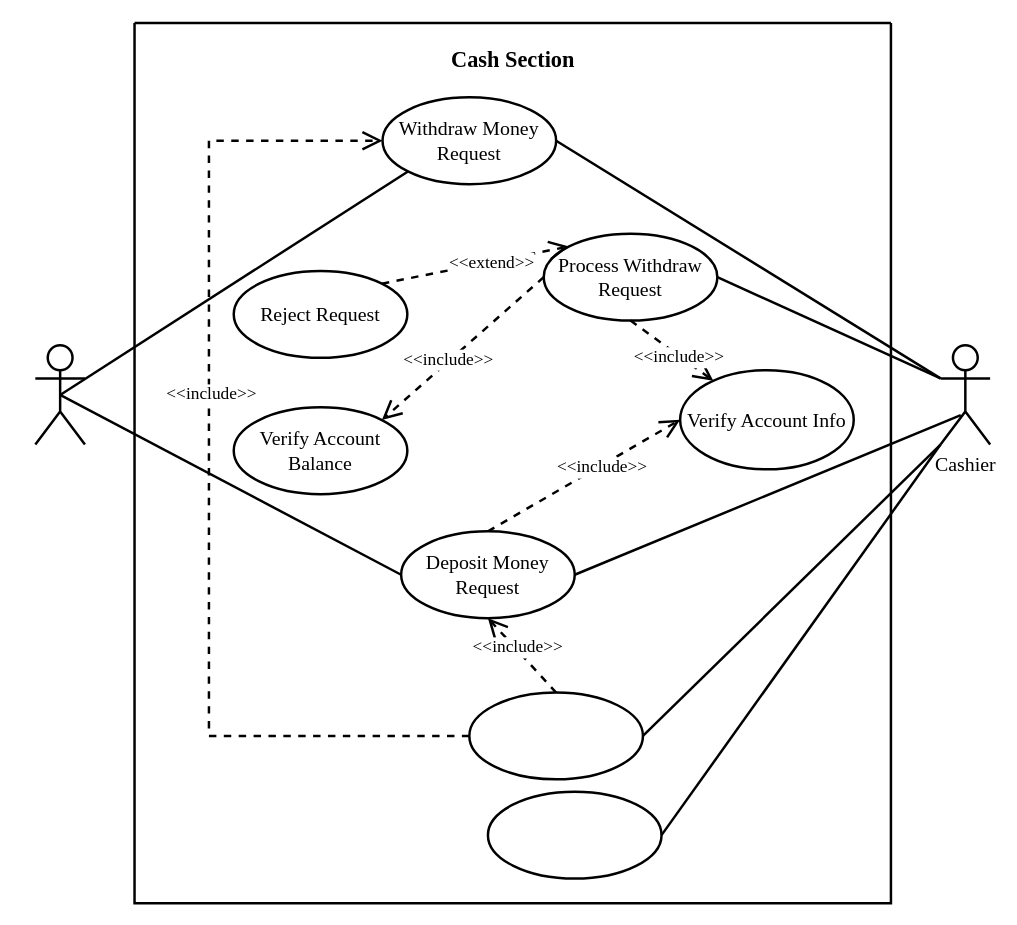
Image size: 1017x925. Some labels were removed from this diagram. The box of each missing label's shape, as (x1, y1, x2, y2) in pixels:
Customer: (33, 343, 86, 445)
Update Balance: (467, 691, 644, 780)
Update Database: (486, 790, 662, 879)
